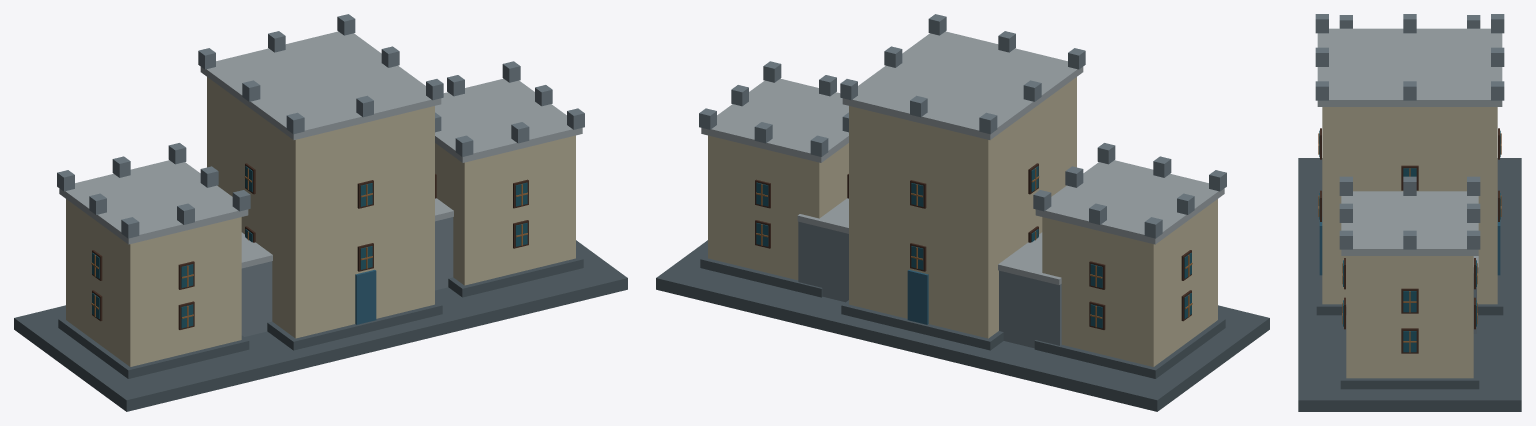
Rendered from Blockland_TownBackdrop_Standard.glb.
3 renders of one model, left to right at view 1: azimuth 30°, elevation 25°; view 2: azimuth 150°, elevation 25°; view 3: azimuth 270°, elevation 25°, orthographic.
Visible parts, largest first — view 1: Blockland_TownBackdrop_Standard; view 2: Blockland_TownBackdrop_Standard; view 3: Blockland_TownBackdrop_Standard.
Boxes of the visible parts, x1,y1,x2,y2 form: Blockland_TownBackdrop_Standard: [14, 14, 627, 411]; Blockland_TownBackdrop_Standard: [656, 14, 1269, 411]; Blockland_TownBackdrop_Standard: [1298, 14, 1521, 411].
Bounding box in the file's own units: 18 × 8.32 × 7.
